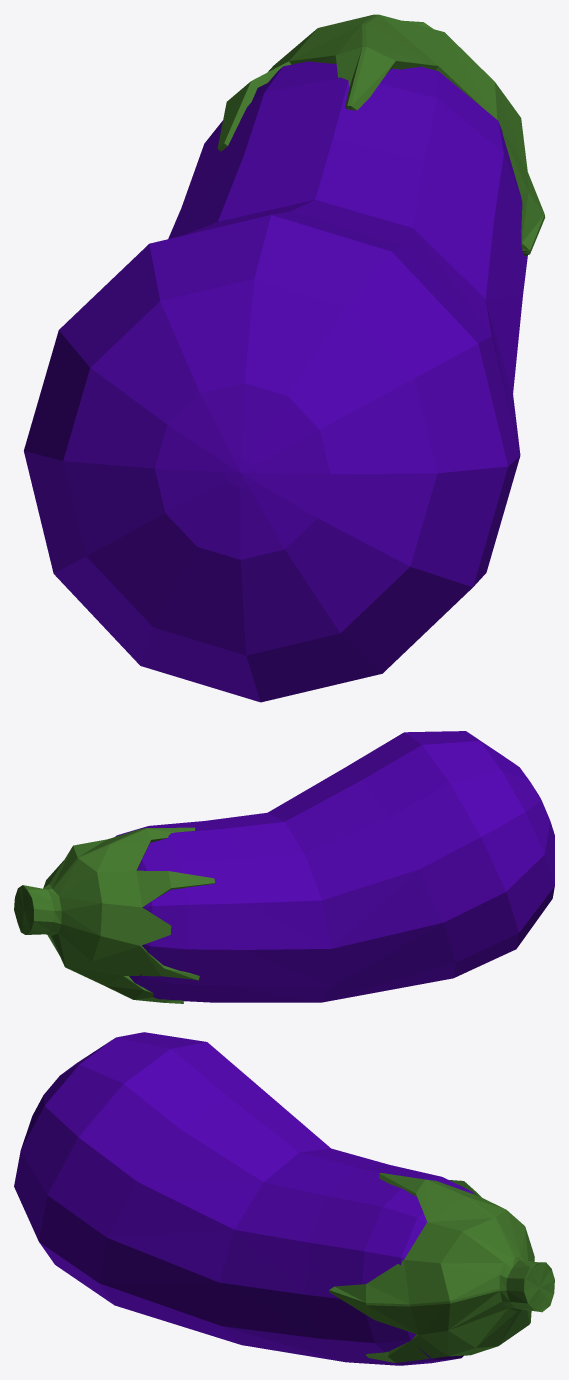
Rendered from eggplant.obj.
The picture shows the model from 3 angles, top to bottom: view 1: azimuth 30°, elevation 25°; view 2: azimuth 150°, elevation 25°; view 3: azimuth 270°, elevation 25°; orthographic projection. The views are drawn at different scales.
Parts seen in each view (by area): view 1: Eggplant_0; view 2: Eggplant_0; view 3: Eggplant_0.
Boxes of the visible parts, x1,y1,x2,y2 form: Eggplant_0: [24, 14, 545, 702]; Eggplant_0: [14, 731, 554, 1003]; Eggplant_0: [14, 1032, 554, 1365].
Bounding box in the file's own units: 0.5142 × 0.3128 × 0.5946.
